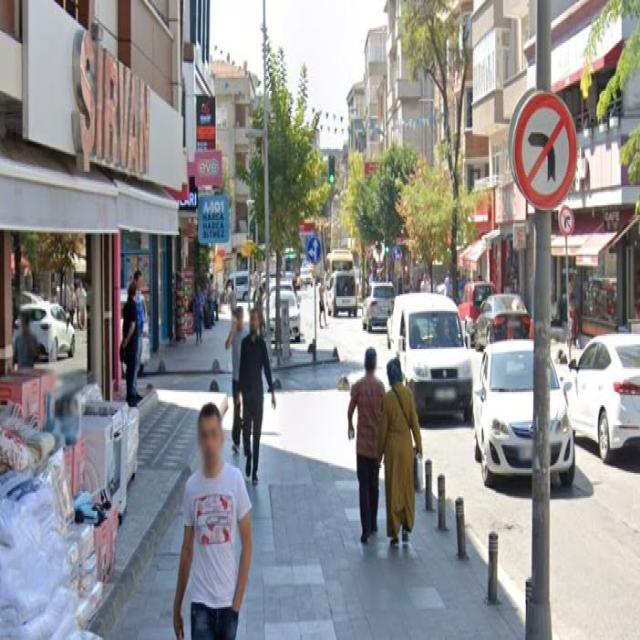ilerisag: (393, 246, 400, 262)
ilerisol: (306, 237, 321, 264)
sagadonulmez: (558, 207, 573, 233)
soladonulmez: (510, 92, 576, 206)
yesil: (328, 156, 335, 183)
